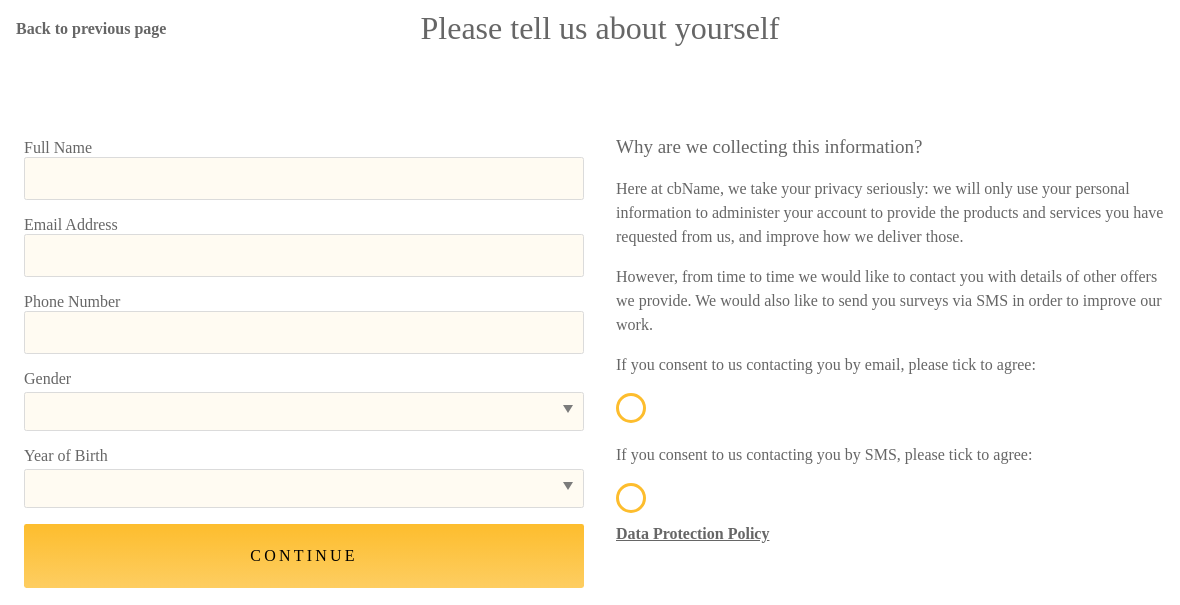
Visitor Registration Component › submit form w/ duplicate email
This screenshot has width=1180, height=605.
Type "Sheva Alomar" into the field labelled "Full Name" at (304, 178), box [24,157,584,200]
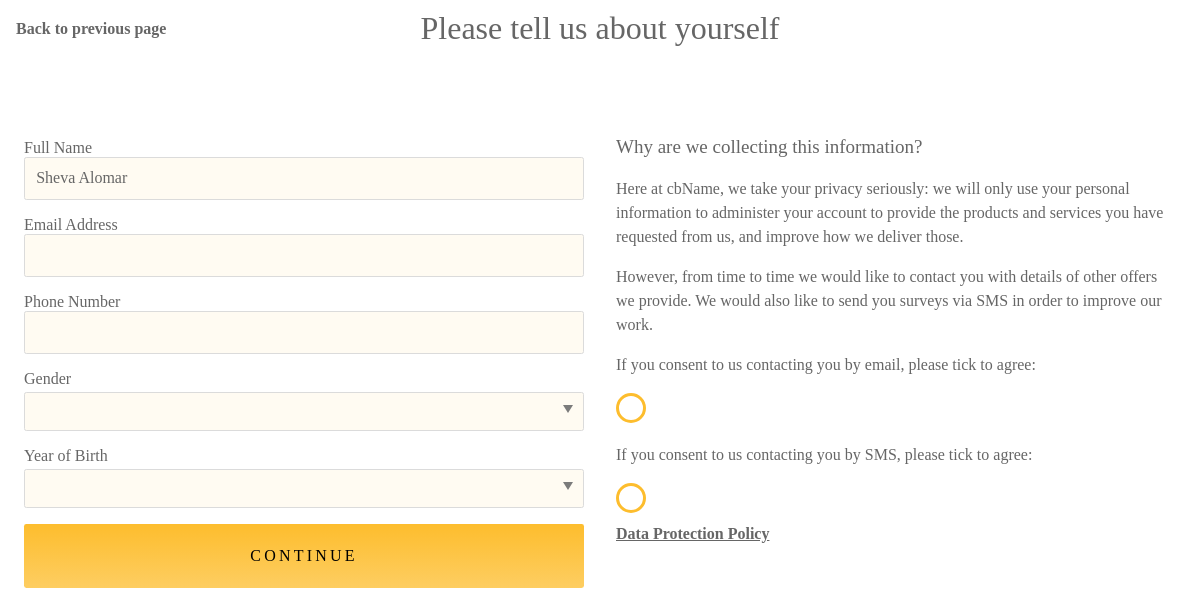
Type "1@aperturescience.com" into the field labelled "Email Address" at (304, 256), box [24,234,584,277]
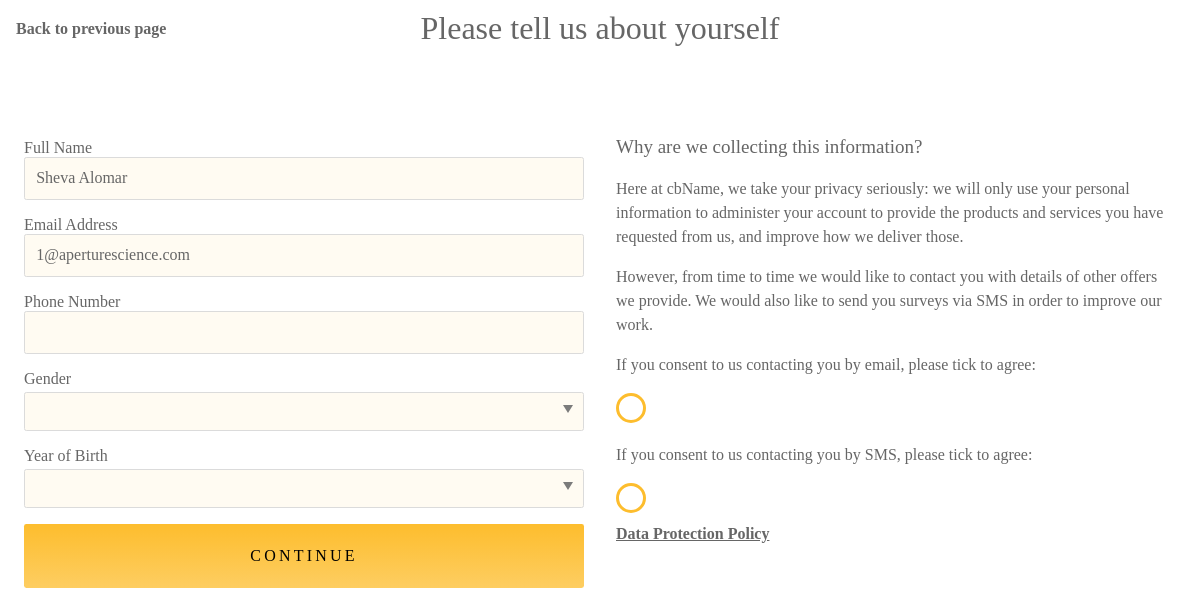
Select "female" in the dropdown labelled "Gender" at (304, 412), box [35,402,573,421]
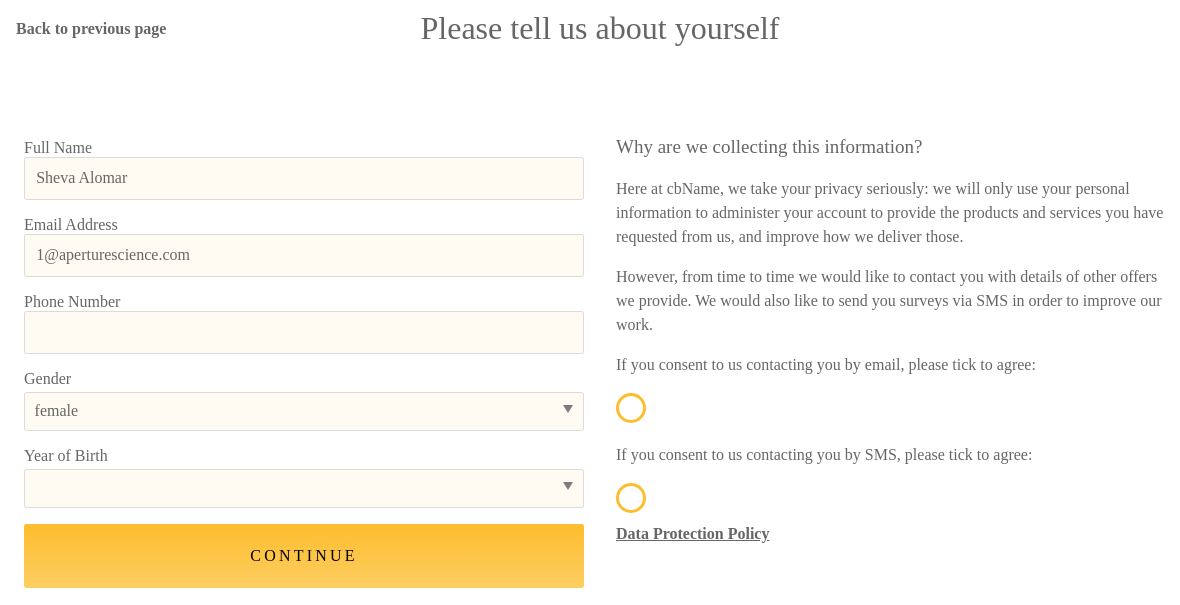
Select "1988" in the dropdown labelled "Year of Birth" at (304, 489), box [35,480,573,498]
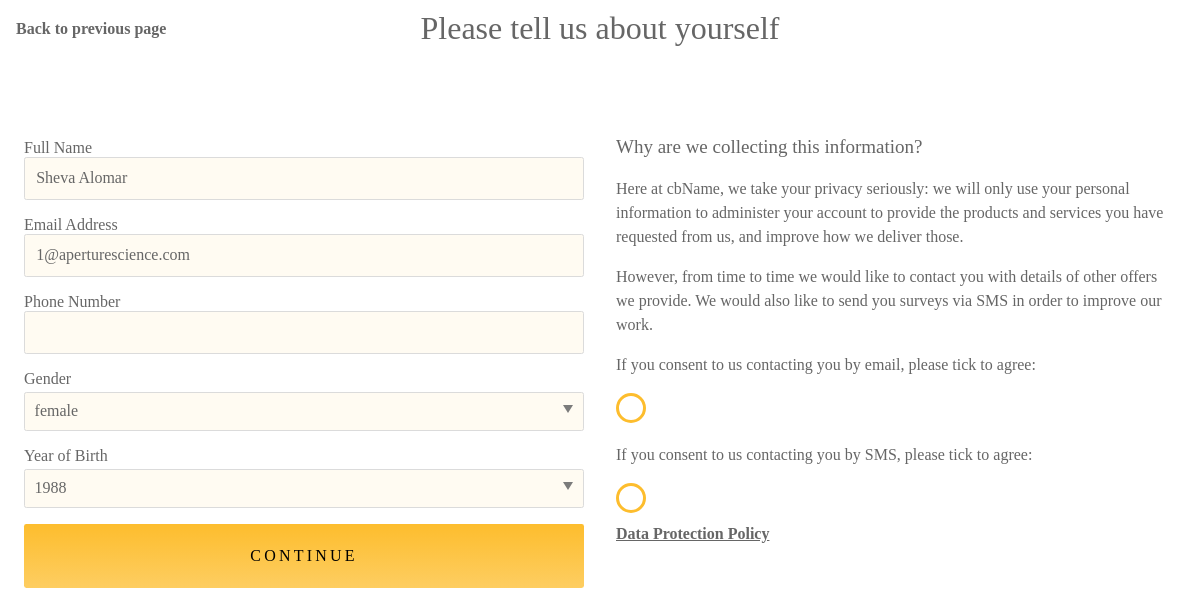
Click the button "CONTINUE" at (304, 556), box [24,524,584,588]
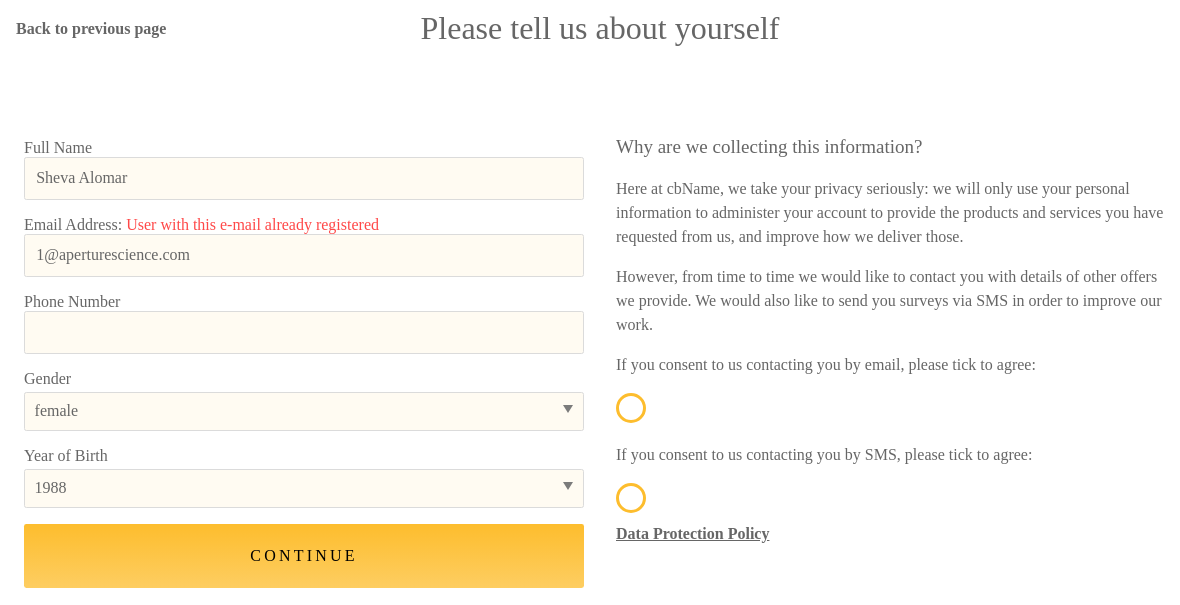
Result: the text "already registered" reads "User with this e-mail already registered" at [126,216,379,233]
